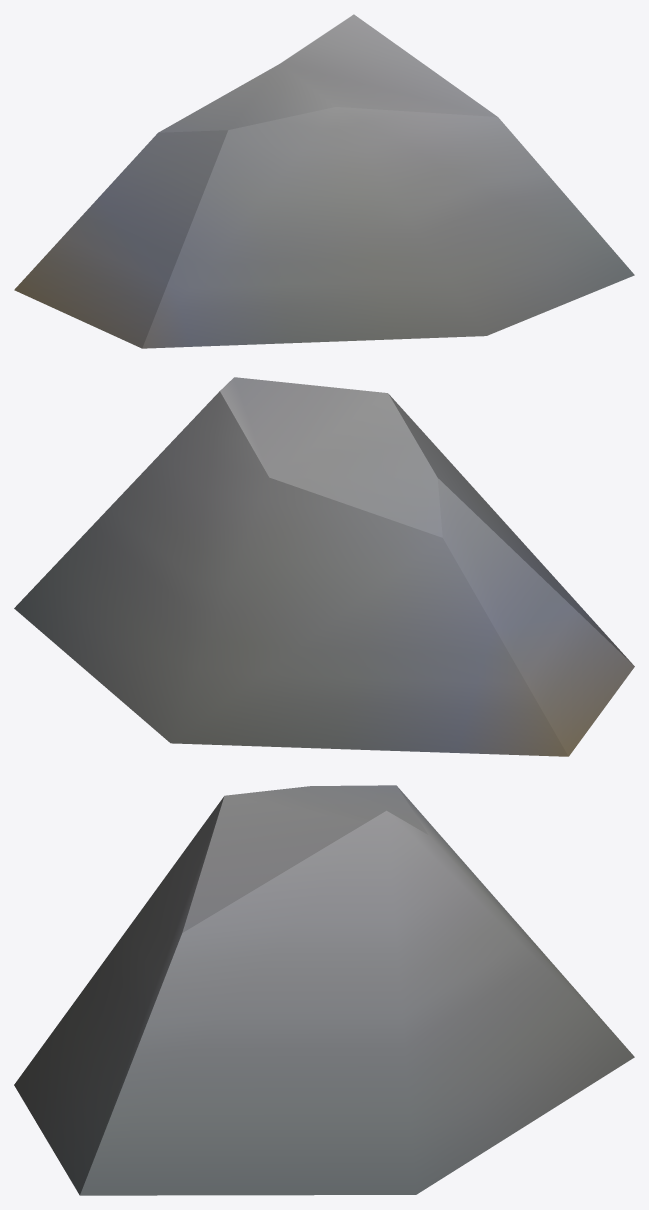
3 views of the same model, one above another, from view 1: azimuth 30°, elevation 25°; view 2: azimuth 150°, elevation 25°; view 3: azimuth 270°, elevation 25° (orthographic). The views are drawn at different scales.
Parts seen in each view (by area): view 1: Rock003; view 2: Rock003; view 3: Rock003.
Boxes of the visible parts, left/top/right/bottom form: Rock003: left=14, top=14, right=634, bottom=348; Rock003: left=14, top=377, right=634, bottom=756; Rock003: left=14, top=785, right=634, bottom=1195.
Size of the model in its own units: 4.8 by 2.05 by 4.11.
Materials: 1 (1 with a texture image).
